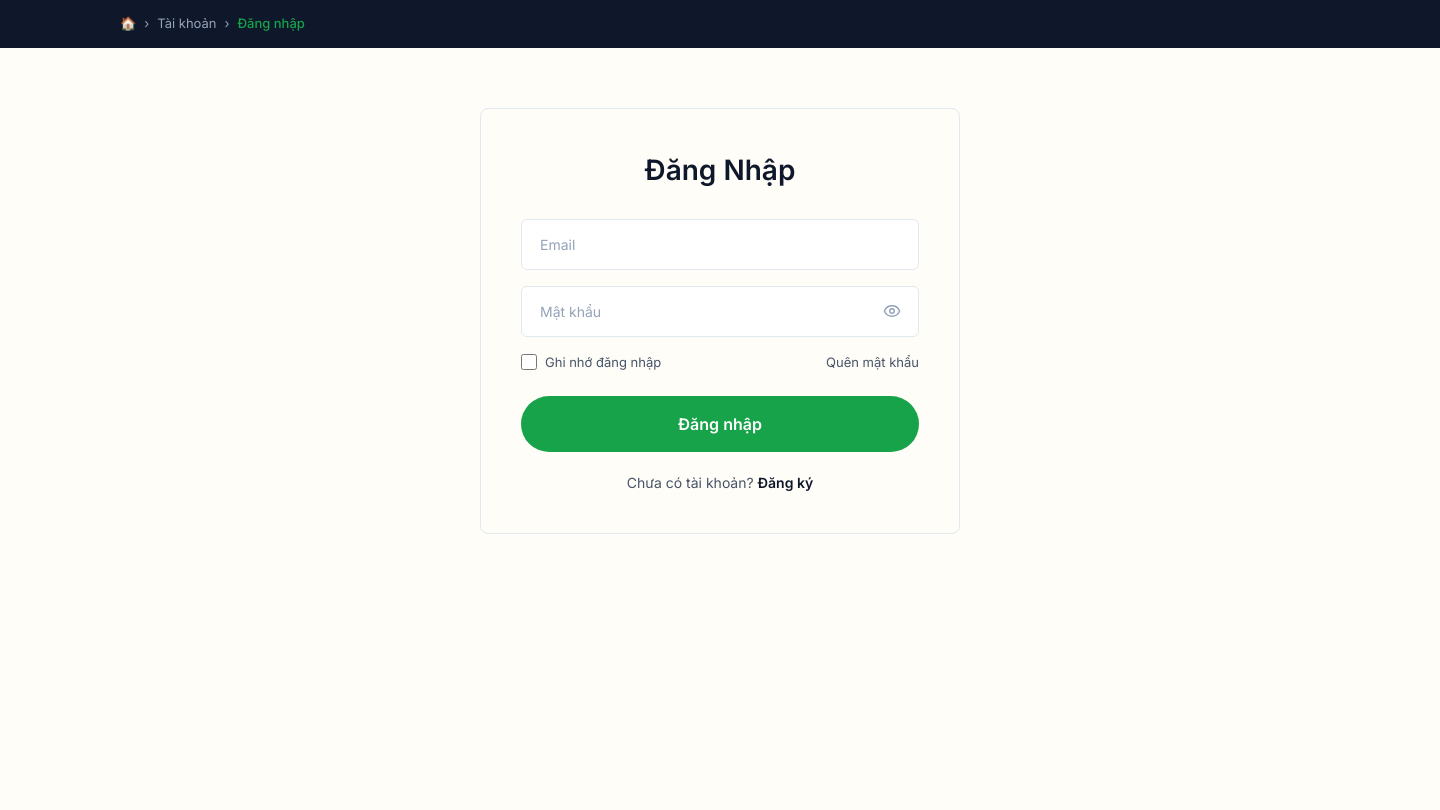
it: Login - error state (isError) › shows an error message when authApi.login rejects
The width and height of the screenshot is (1440, 810).
Step 1. Type "a@b.com" into the field with placeholder "Email" → (720, 244), box [521, 218, 919, 270]
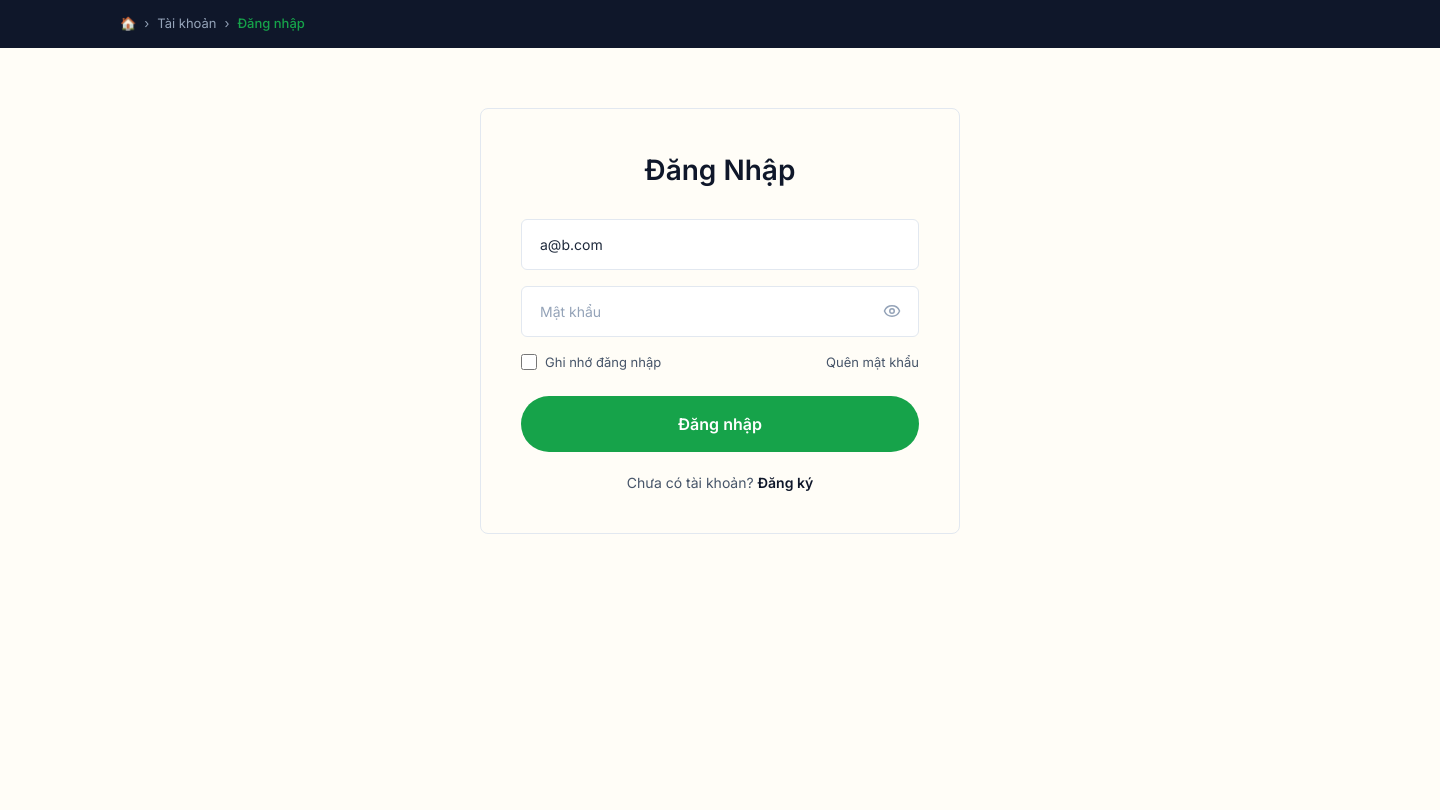
Step 2. Type "wrong" into the password field with placeholder "Mật khẩu" → (720, 311), box [521, 286, 919, 336]
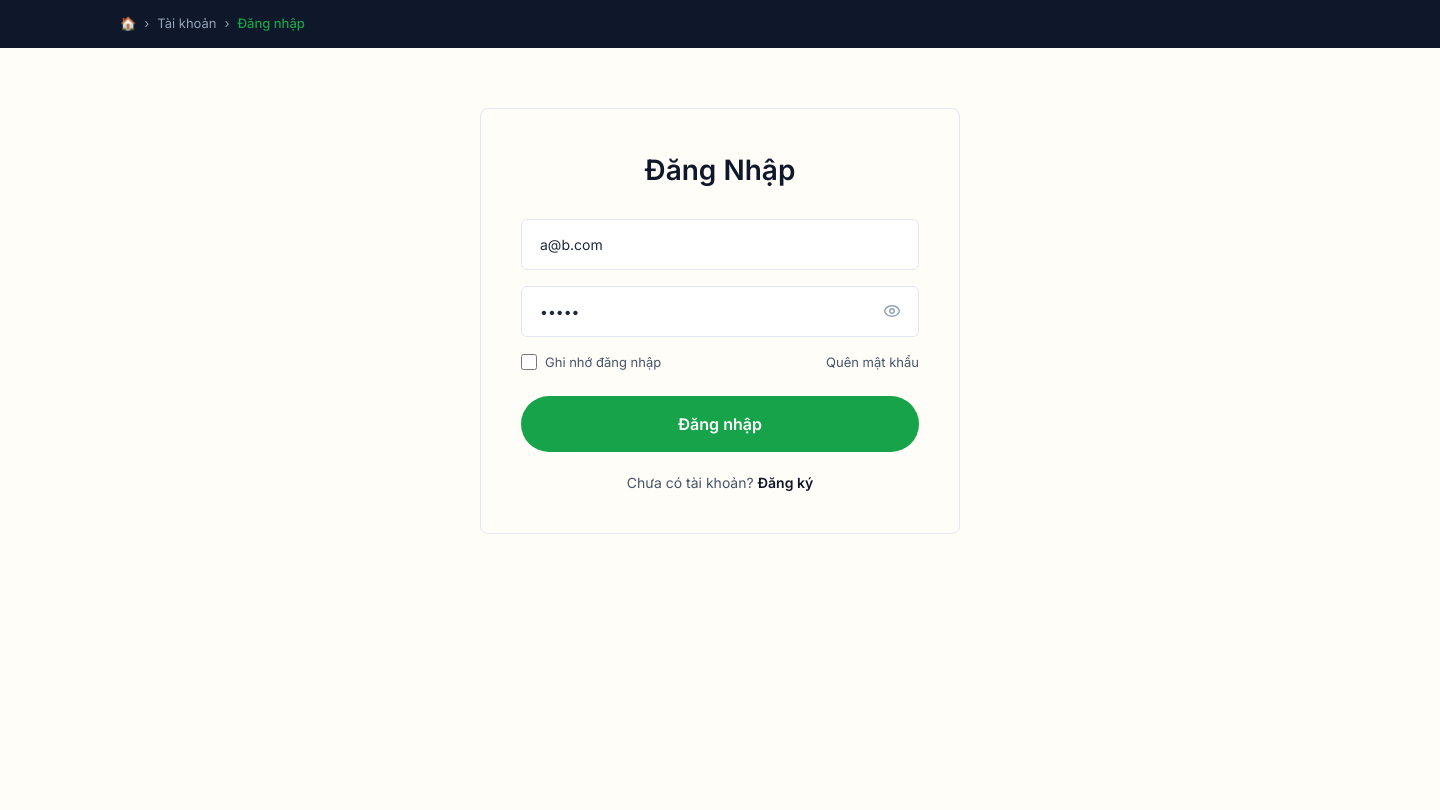
Step 3. Click the button "Đăng nhập" → click(720, 424), box [521, 396, 919, 452]
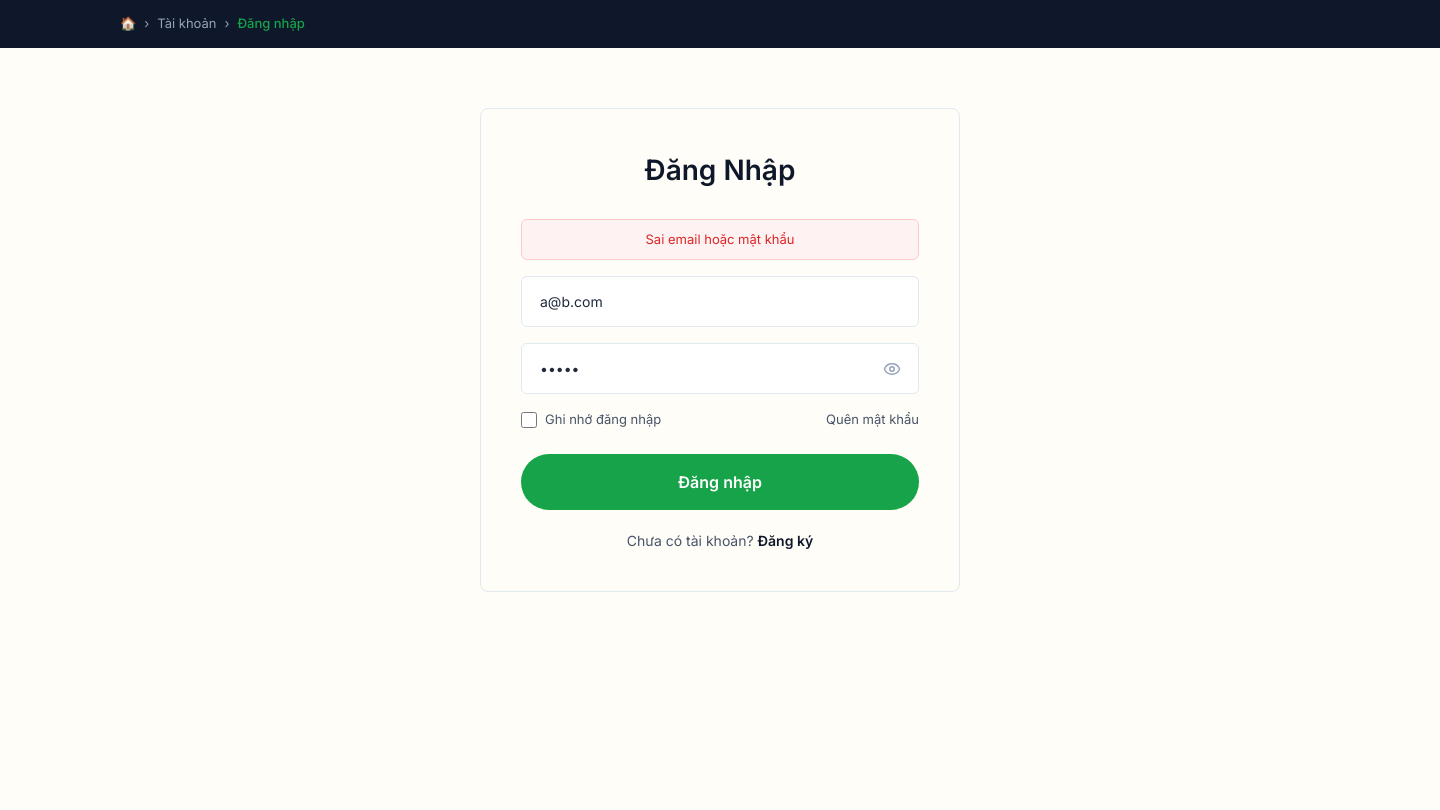
Now the text "Sai email hoặc mật khẩu" is shown, box [521, 218, 919, 260]
